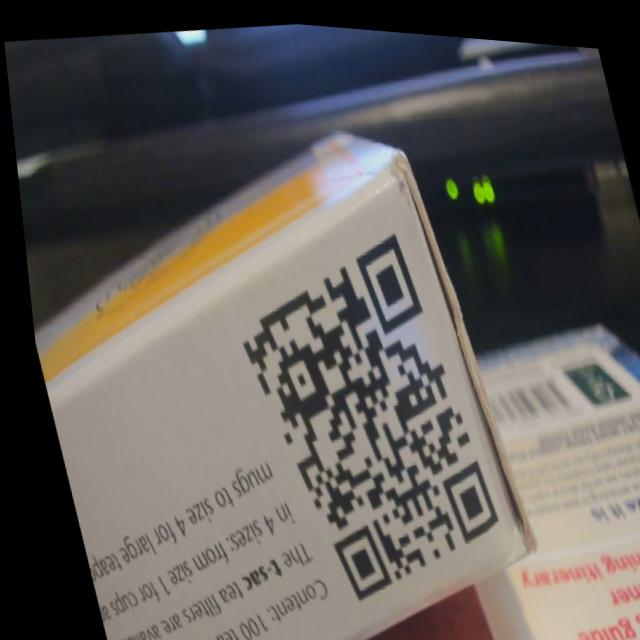QR_CODE: (199, 193, 522, 626)
